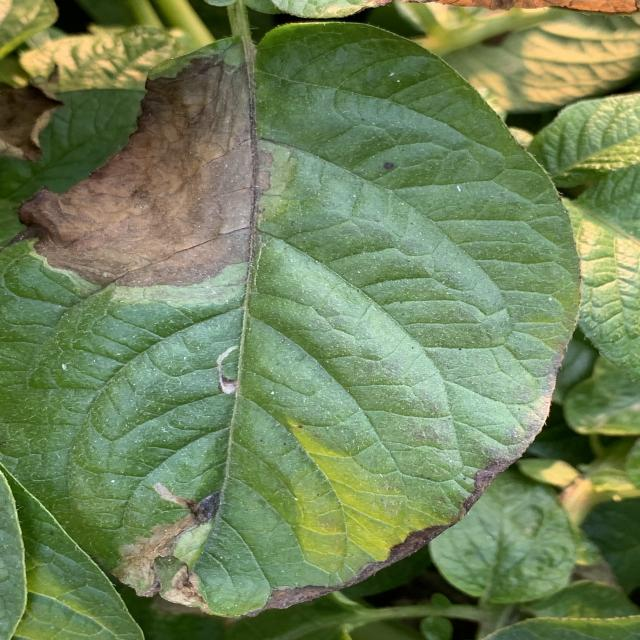lateblight: (20, 38, 253, 286), (113, 482, 220, 610), (332, 525, 450, 589), (492, 398, 550, 462), (265, 586, 332, 611), (473, 479, 492, 498)
